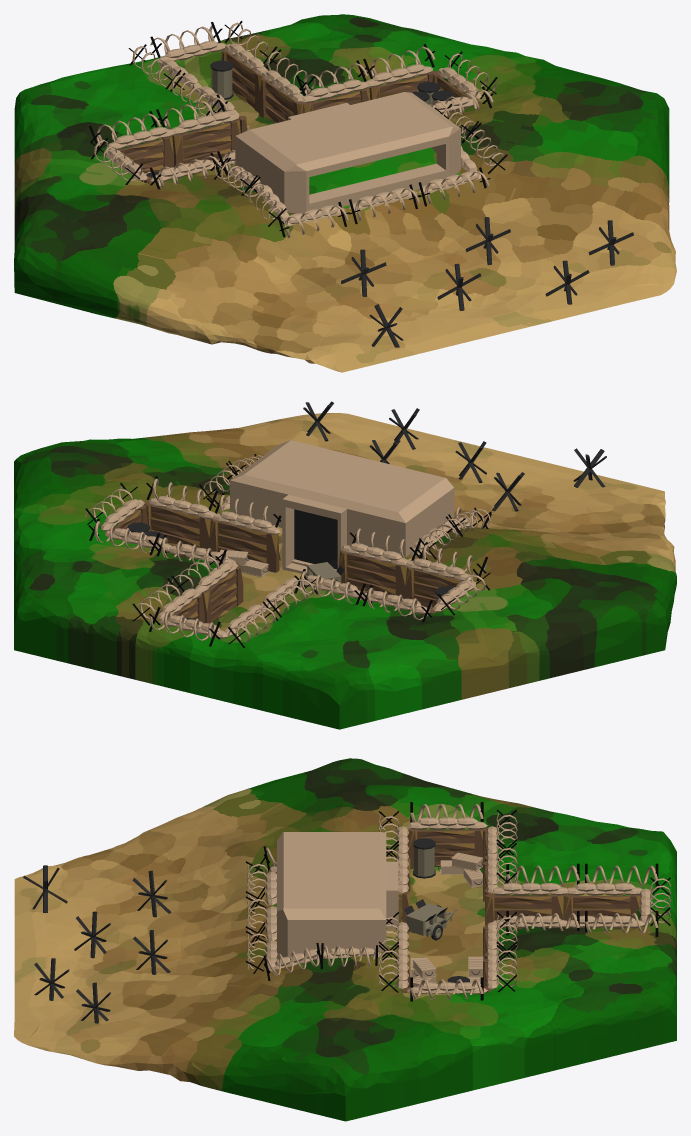
File: SquadDefend.fbx
3 renders of one model, top to bottom at view 1: azimuth 30°, elevation 25°; view 2: azimuth 150°, elevation 25°; view 3: azimuth 270°, elevation 25°, orthographic.
Visible parts, largest first — view 1: Circle, Cube, BunkerFence.006, BunkerFence.007, BunkerFence.010, BunkerFence.011, BunkerFence.004, SandBags.007, SandBags.006, Barrel.003, SandBags.001, SandBags.002 (+20 smaller); view 2: Circle, Cube, BunkerFence.001, BunkerFence.000, BunkerFence.002, BunkerFence.010, BunkerFence.003, SandBags.005, SandBags.004, SandBags.003, SandBags, TrenchWire.027 (+18 smaller); view 3: Circle, Cube, BunkerFence.012, BunkerFence.009, BunkerFence.008, Generator, SandBags.012, SandBags.011, Barrel.004, SandBags.010, TrenchWire.010, TrenchWire.013 (+10 smaller).
Boxes of the visible parts, x1,y1,x2,y2 form: Circle: [14, 14, 676, 372]; Cube: [235, 92, 460, 213]; BunkerFence.006: [172, 119, 240, 167]; BunkerFence.007: [118, 136, 173, 173]; BunkerFence.010: [259, 77, 303, 123]; BunkerFence.011: [221, 49, 262, 112]; BunkerFence.004: [369, 71, 436, 99]; SandBags.007: [302, 79, 368, 102]; SandBags.006: [365, 64, 432, 87]; Barrel.003: [210, 60, 233, 99]; SandBags.001: [172, 111, 239, 134]; SandBags.002: [106, 127, 174, 149]; Circle: [14, 413, 676, 729]; Cube: [230, 440, 454, 574]; BunkerFence.001: [209, 519, 279, 572]; BunkerFence.000: [338, 549, 406, 598]; BunkerFence.002: [144, 501, 210, 549]; BunkerFence.010: [202, 564, 243, 623]; BunkerFence.003: [405, 567, 461, 608]; SandBags.005: [212, 511, 280, 534]; SandBags.004: [148, 496, 215, 519]; SandBags.003: [341, 543, 408, 566]; SandBags: [405, 558, 473, 581]; TrenchWire.027: [149, 607, 220, 646]; Circle: [14, 758, 676, 1121]; Cube: [277, 832, 398, 957]; BunkerFence.012: [408, 828, 484, 869]; BunkerFence.009: [485, 894, 562, 925]; BunkerFence.008: [564, 894, 640, 920]; Generator: [404, 899, 456, 940]; SandBags.012: [407, 817, 487, 830]; SandBags.011: [492, 883, 567, 895]; Barrel.004: [413, 838, 435, 878]; SandBags.010: [567, 883, 642, 895]; TrenchWire.010: [585, 911, 658, 936]; TrenchWire.013: [410, 977, 483, 1001].
Size of the model in its own units: 1402 by 190 by 1214.
